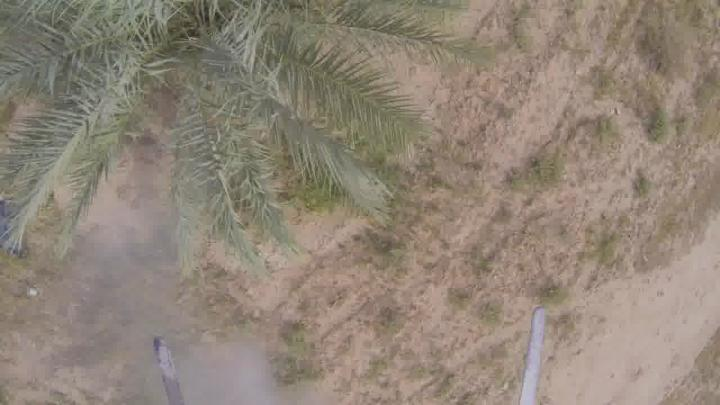Date-Palm-Crown: (0, 0, 348, 168)
